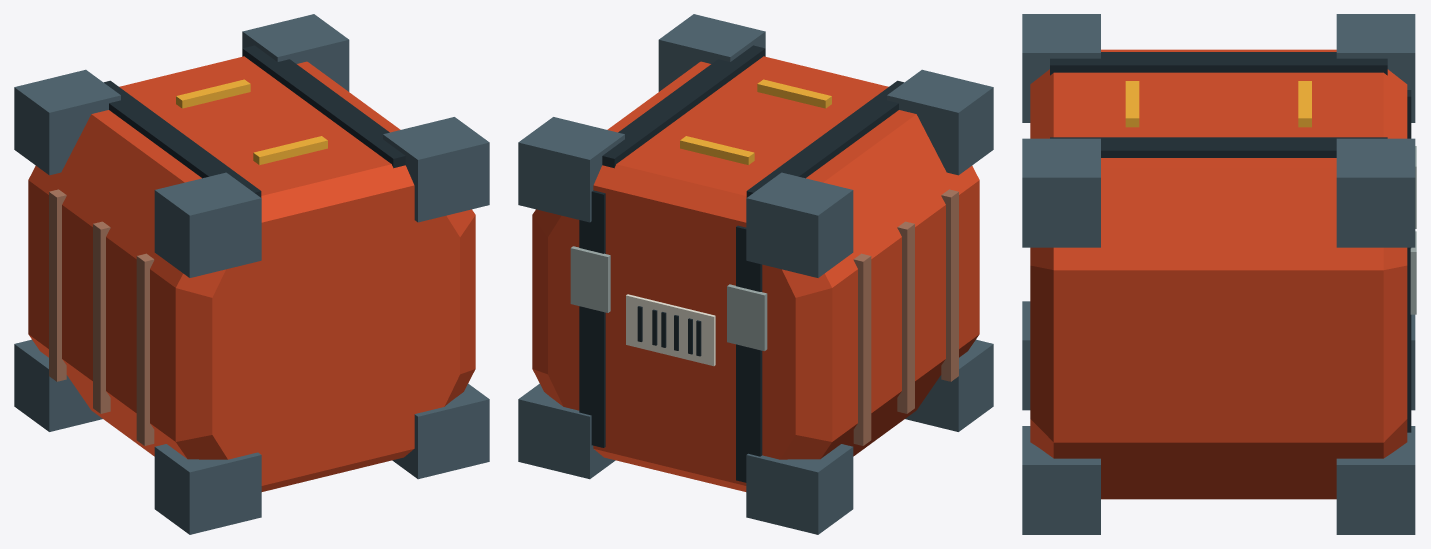
The model's file is debris-cargo-pod.glb.
The picture shows the model from 3 angles, left to right: view 1: azimuth 30°, elevation 25°; view 2: azimuth 150°, elevation 25°; view 3: azimuth 270°, elevation 25°; orthographic projection. The views are drawn at different scales.
Parts seen in each view (by area): view 1: Cargo pod; view 2: Cargo pod; view 3: Cargo pod.
Boxes of the visible parts, x1,y1,x2,y2 form: Cargo pod: (14, 14, 489, 534); Cargo pod: (518, 14, 993, 534); Cargo pod: (1022, 14, 1416, 534).
Bounding box in the file's own units: 1 × 1 × 1.
